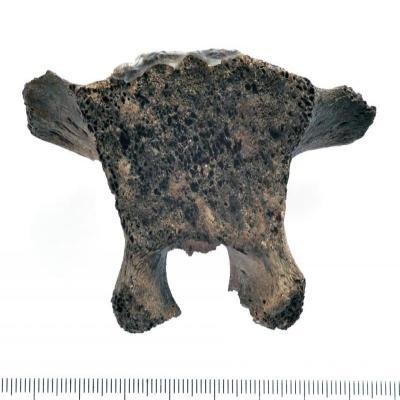natural_science_collection: (22, 49, 378, 334)
